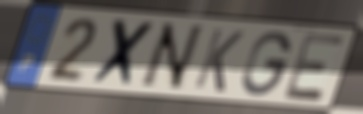2: (46, 16, 99, 83)
E: (281, 30, 349, 104)
G: (240, 29, 294, 99)
K: (191, 26, 247, 95)
N: (135, 21, 207, 93)
X: (86, 16, 159, 91)
